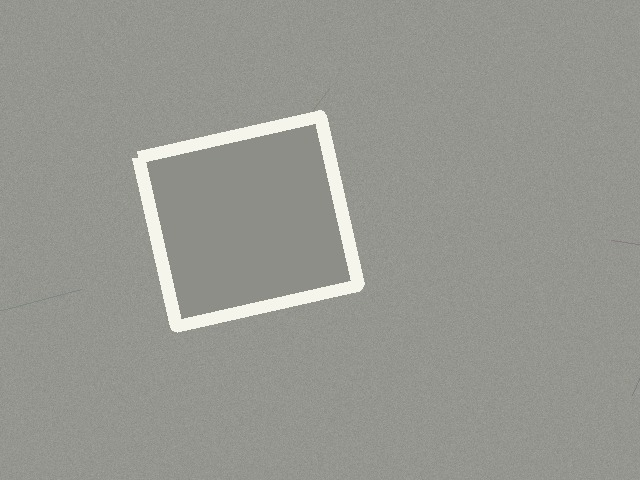parking_area: (138, 116, 358, 326)
